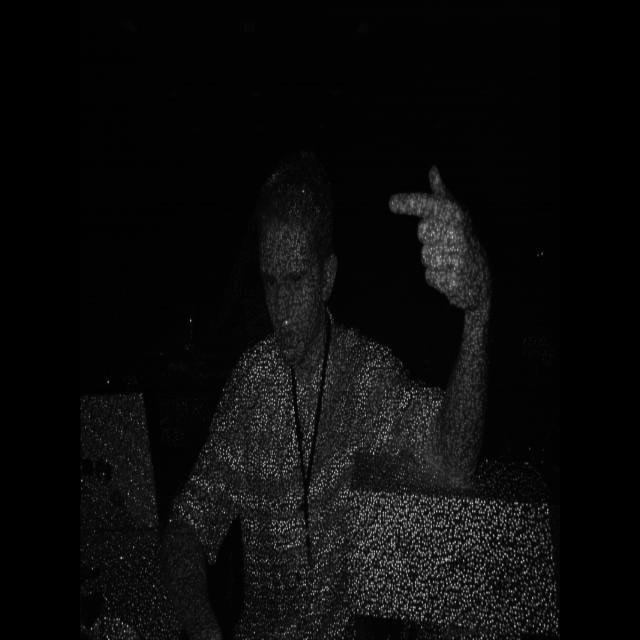G: (377, 144, 510, 335)
